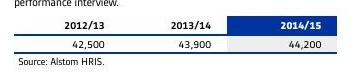table: (0, 0, 354, 77)
